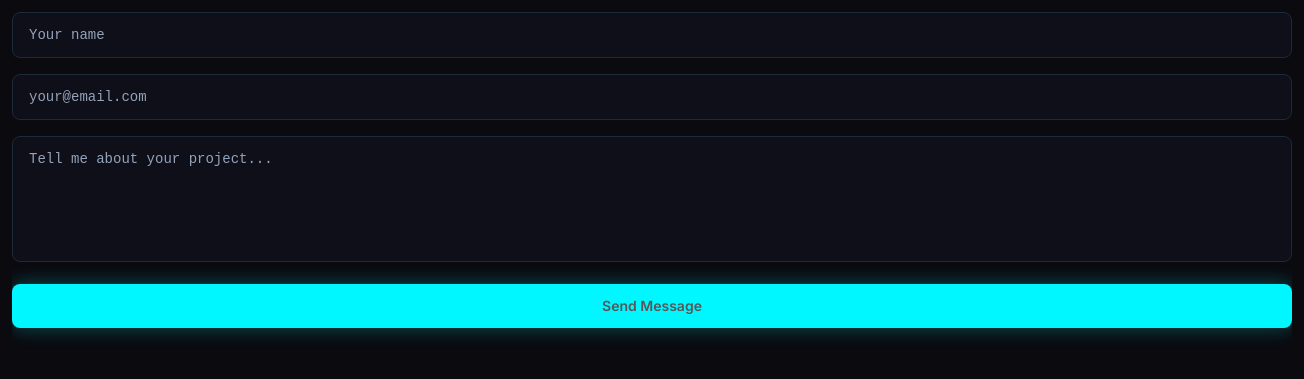
Test: ContactForm › shows success for a valid submission
The width and height of the screenshot is (1304, 379).
In the field labelled "Your name": (652, 35) top-left (12, 12), bottom-right (1292, 58), type "Ada"
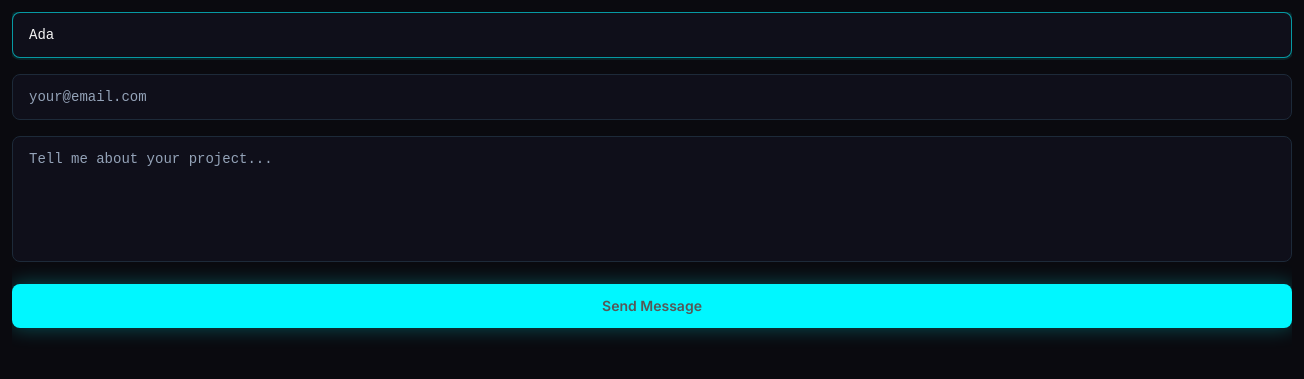
In the field named "your email": (652, 97) top-left (12, 74), bottom-right (1292, 120), type "ada@example.com"
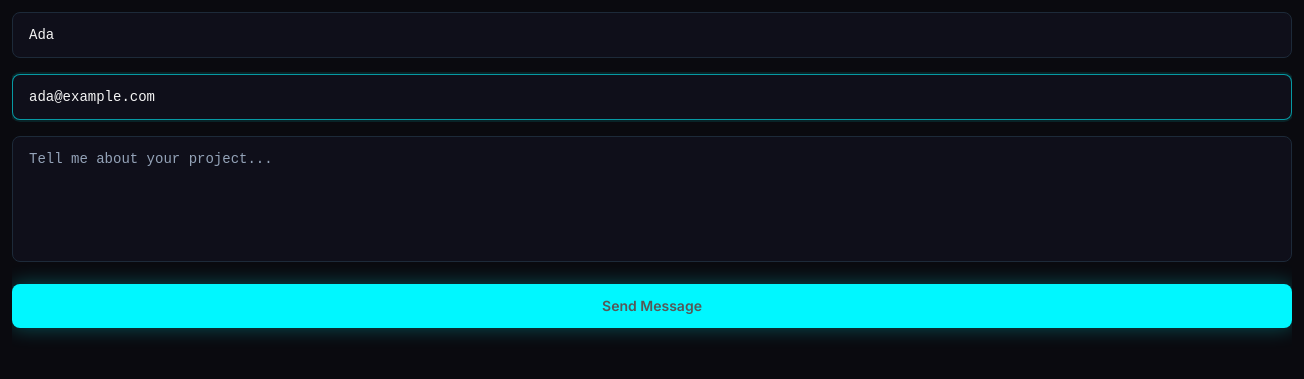
In the text box named "your message": (652, 199) top-left (12, 136), bottom-right (1292, 262), type "Hello!"
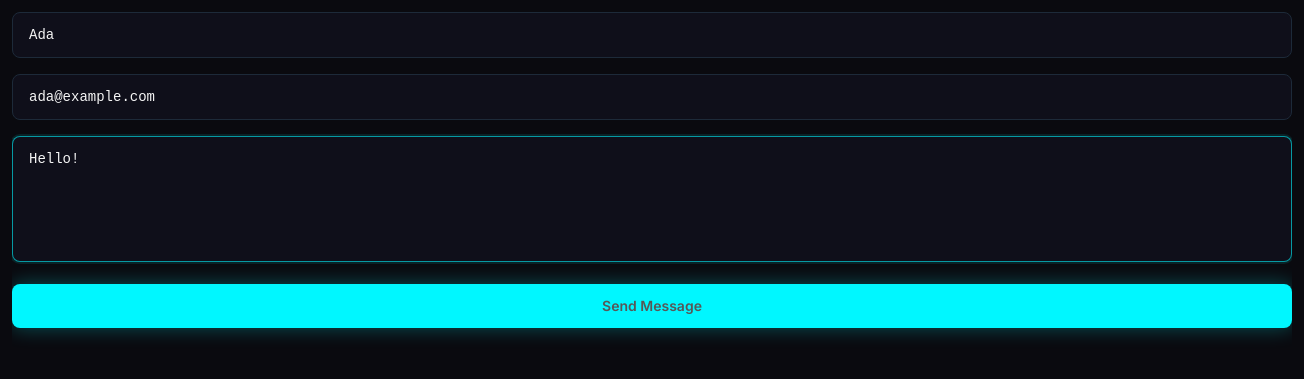
Click the button "Send Message": (652, 306) top-left (12, 284), bottom-right (1292, 328)
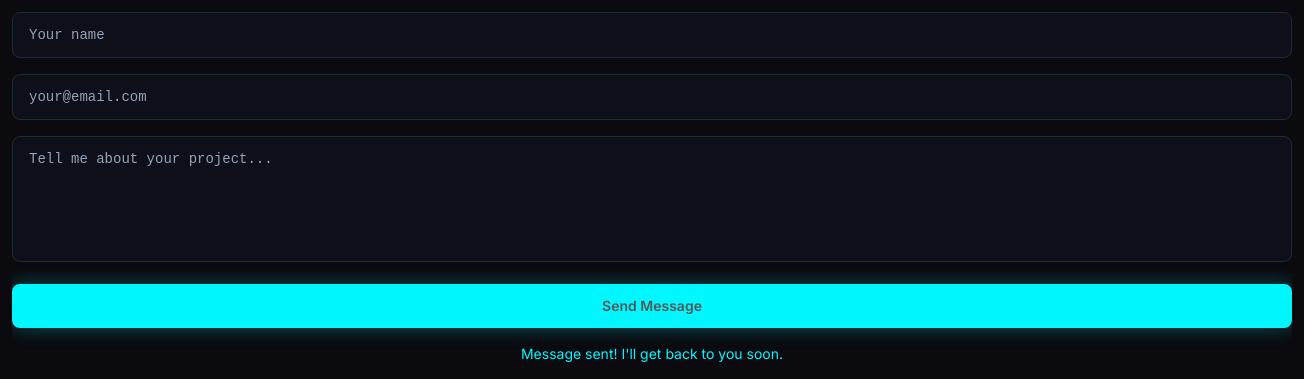
Expected: the text "Message sent! I'll get back to you soon." is shown, top-left (521, 345), bottom-right (783, 362)
